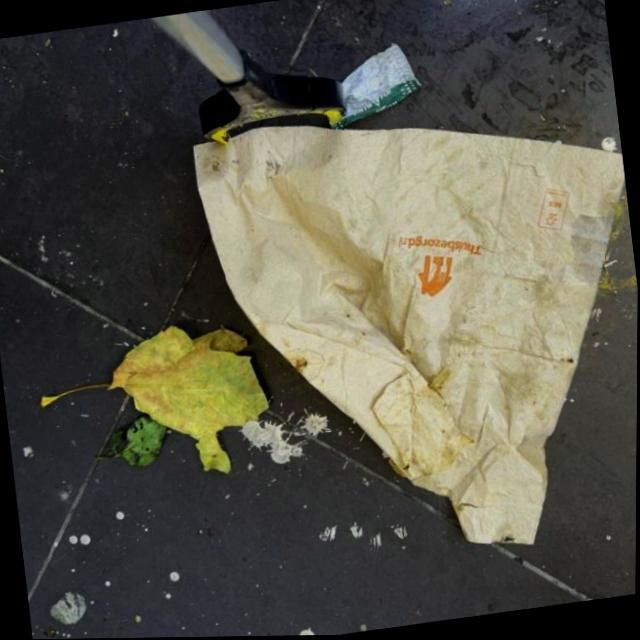Paper: (183, 75, 640, 589)
Plastic: (318, 40, 428, 131)
